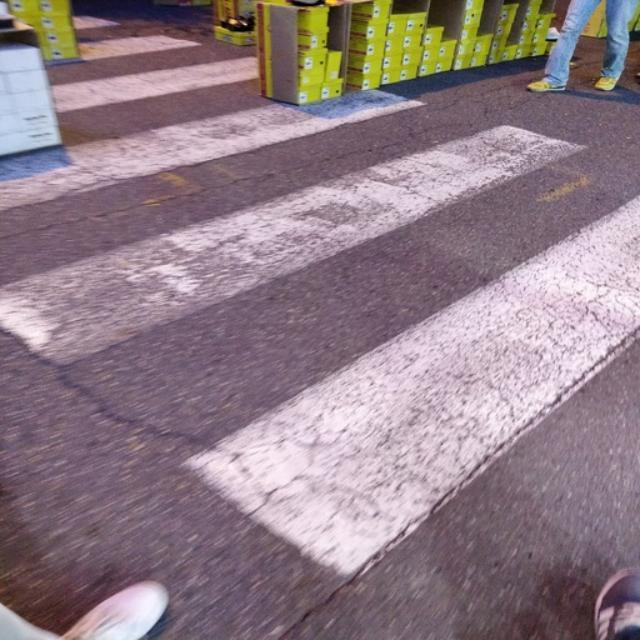sidewalk: (1, 16, 639, 583)
